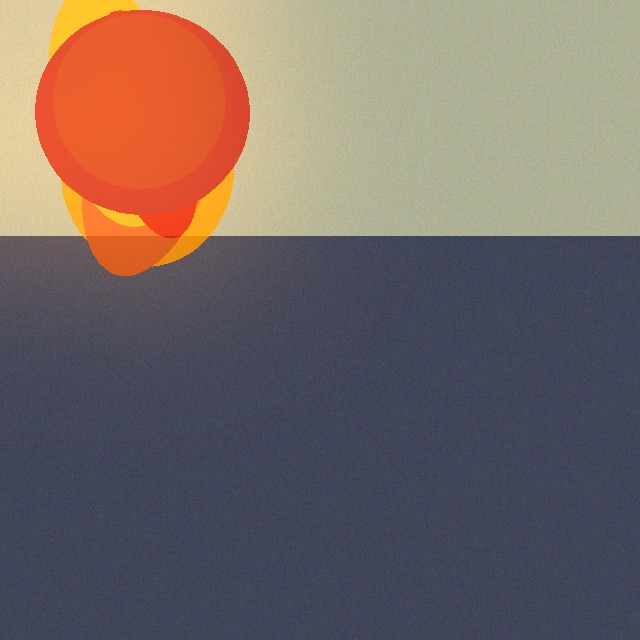fire: (44, 39, 220, 241)
